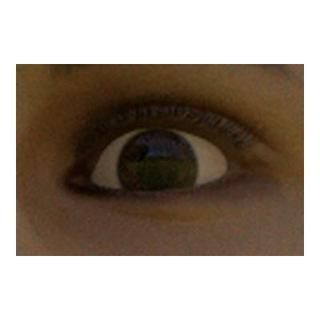pupil: (136, 148, 176, 188)
